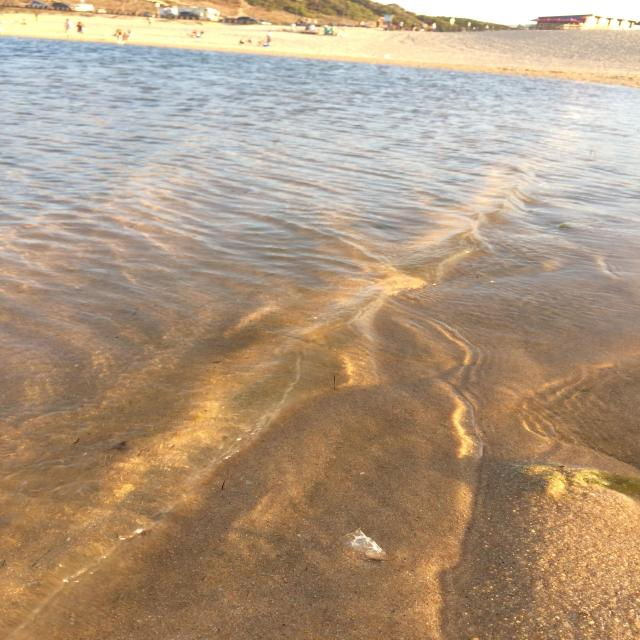litter: (338, 529, 389, 560)
